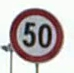limite 50: (8, 7, 63, 62)
